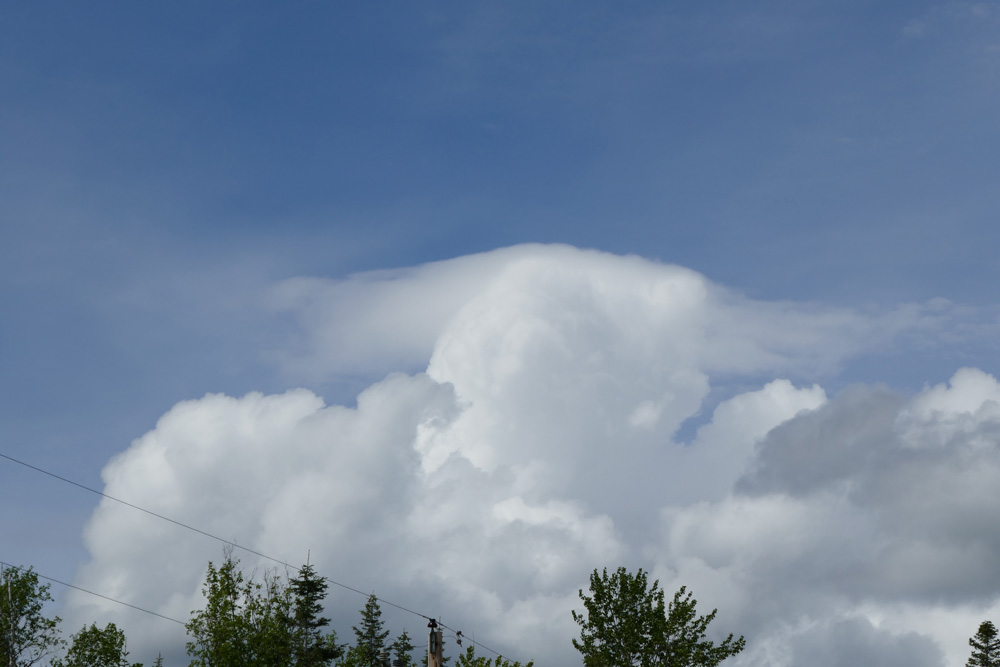Cumulus: (49, 336, 518, 653), (440, 200, 704, 588), (668, 354, 1000, 632)
